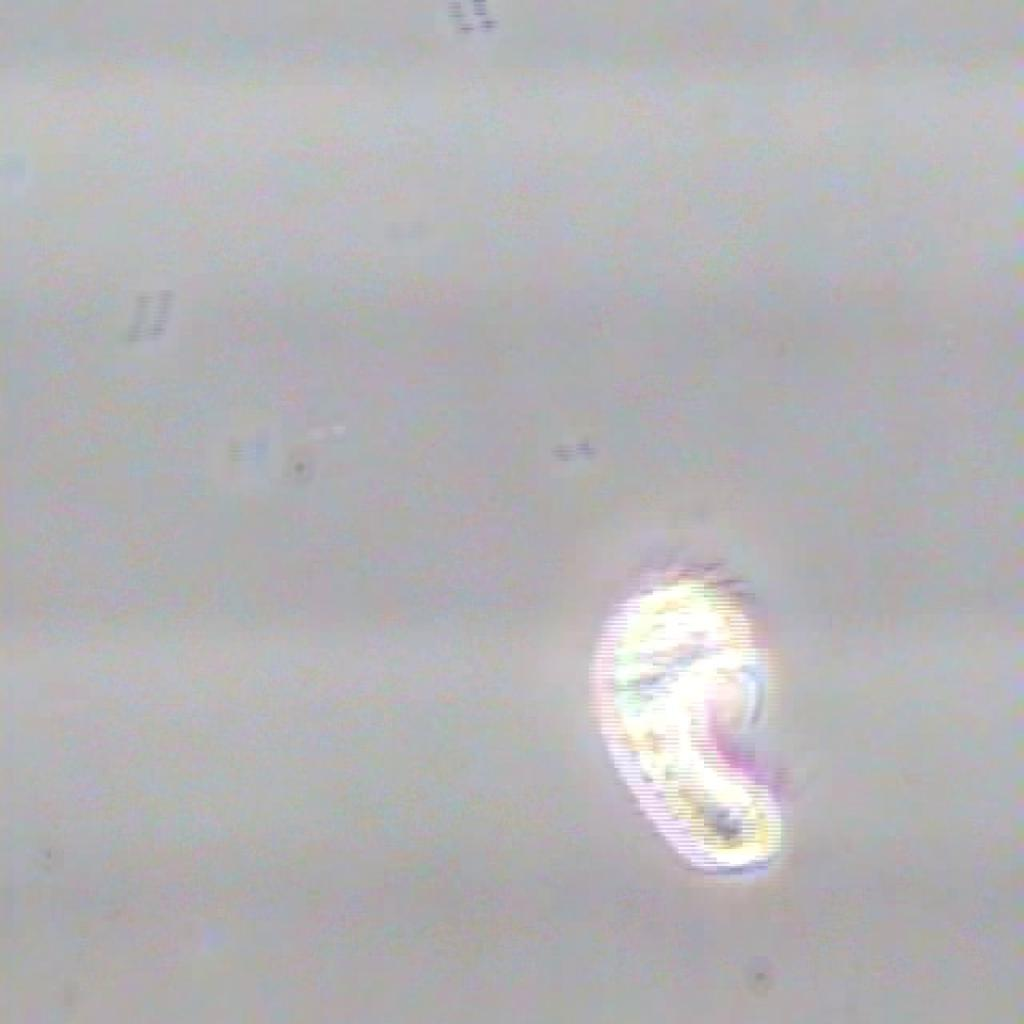Chaetonotus: (552, 520, 816, 904)
